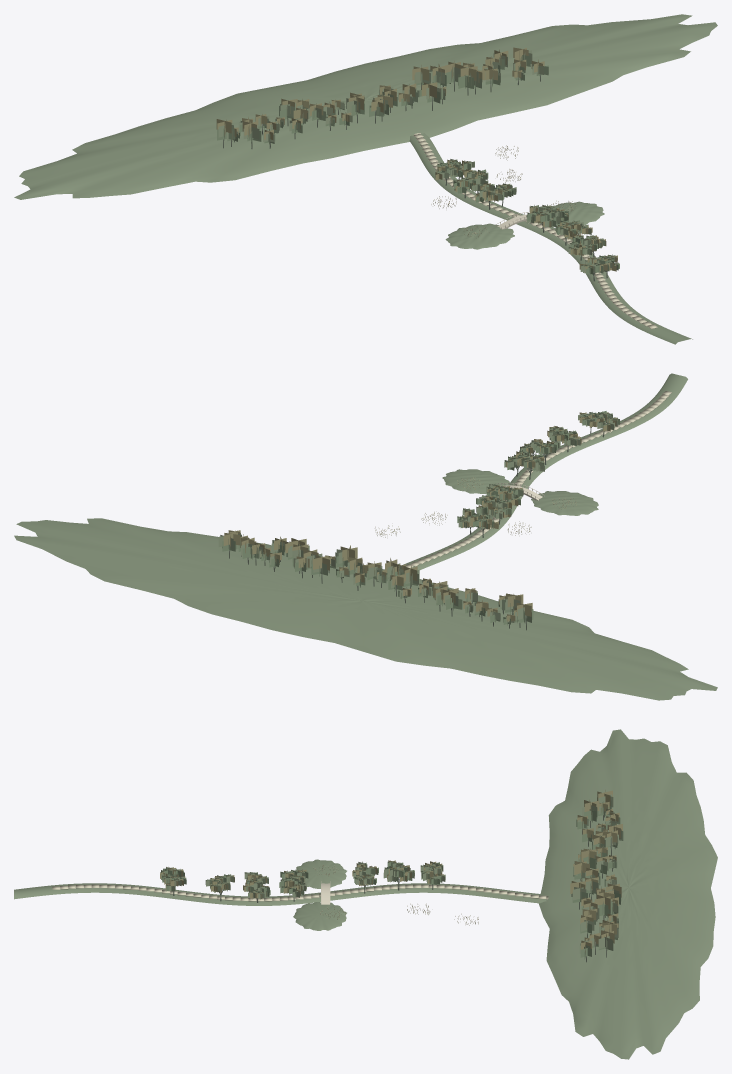
The model's file is yang-causeway.glb.
3 views of the same model, one above another, from view 1: azimuth 30°, elevation 25°; view 2: azimuth 150°, elevation 25°; view 3: azimuth 270°, elevation 25° (orthographic). The views are drawn at different scales.
Parts seen in each view (by area): view 1: earth, crown2, crown1, crown0, sand; view 2: earth, crown2, crown1, crown0, sand; view 3: earth, crown2, crown1, crown0, sand.
Part boxes in pixels (x1,y1,x2,y2): earth: [14, 14, 717, 344]; crown2: [216, 47, 617, 272]; crown1: [218, 50, 618, 273]; crown0: [217, 55, 619, 274]; sand: [413, 133, 657, 328]; earth: [14, 373, 717, 700]; crown2: [223, 412, 617, 621]; crown1: [218, 412, 617, 622]; crown0: [222, 411, 619, 625]; sand: [406, 391, 672, 568]; earth: [14, 729, 717, 1059]; crown2: [160, 790, 622, 952]; crown1: [161, 794, 621, 954]; crown0: [160, 797, 623, 959]; sand: [52, 884, 548, 901].
Bounding box in the file's own units: 299 × 14.4 × 269.
